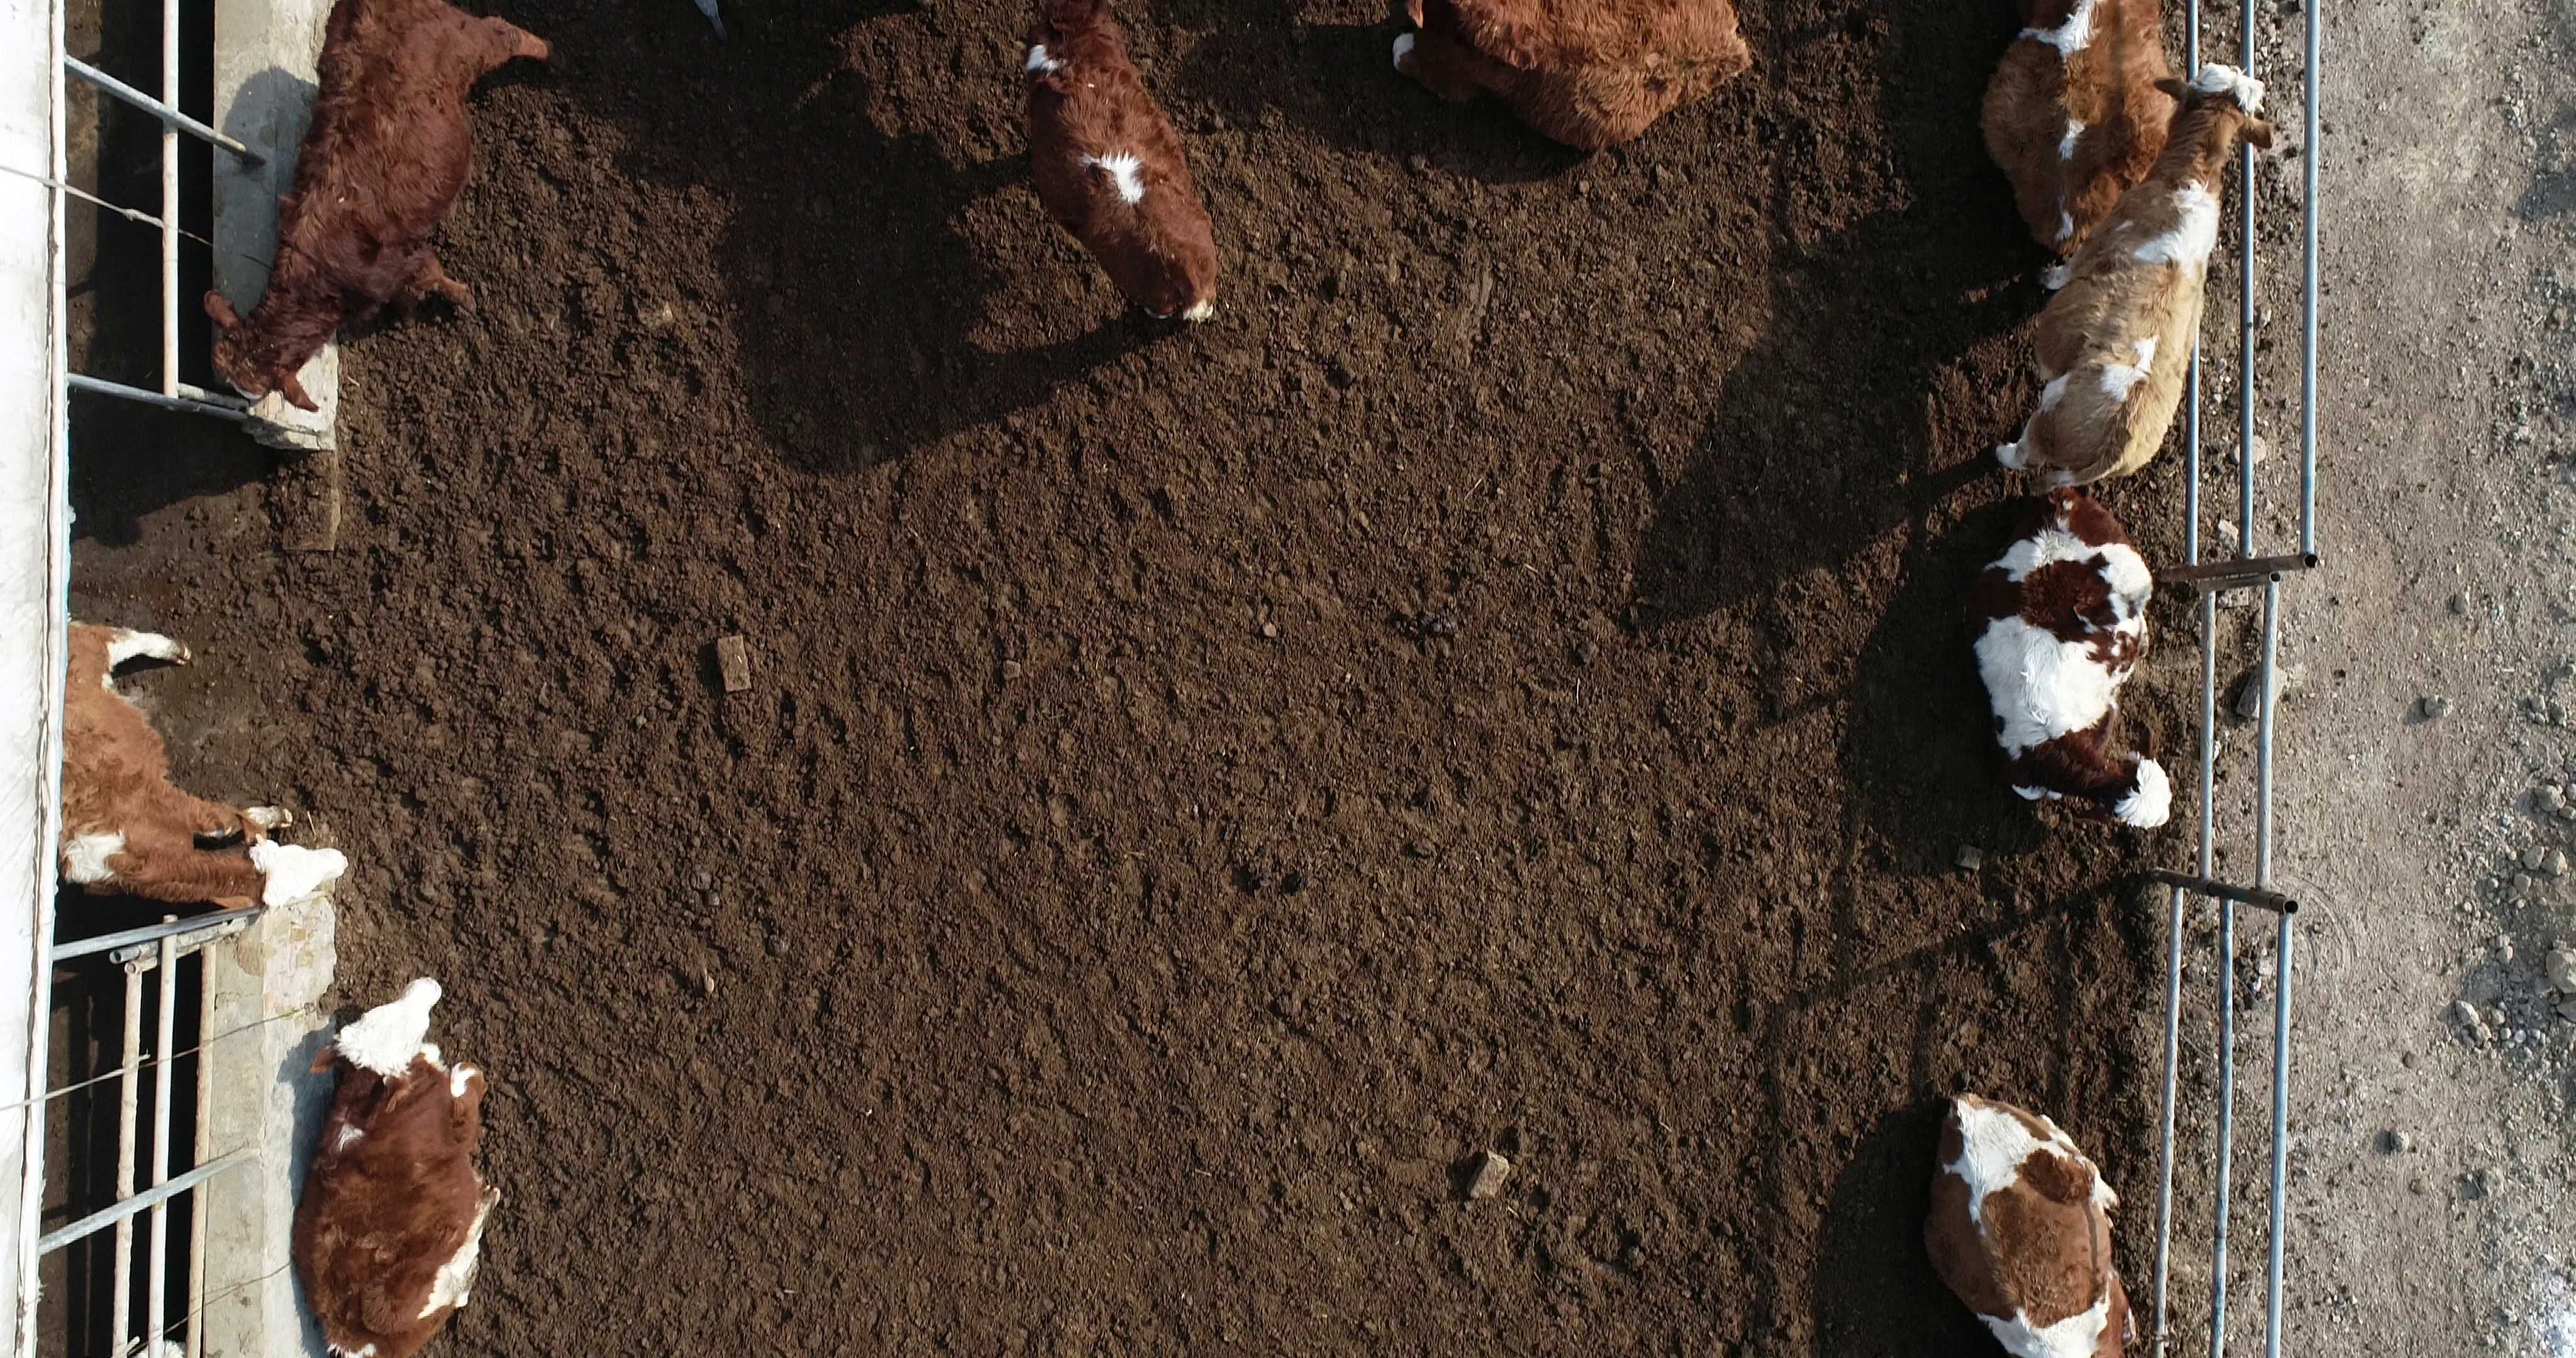cattle: (1985, 58, 2280, 494), (283, 973, 508, 1358), (1959, 487, 2179, 831)
